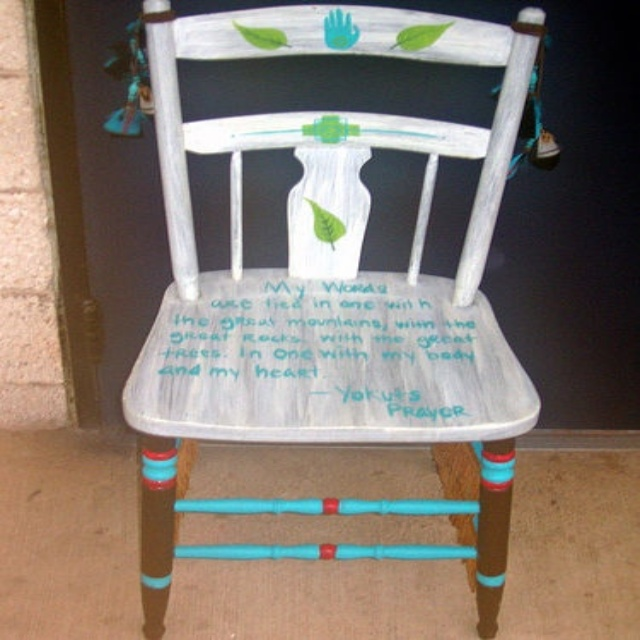obstacle: (123, 0, 543, 639)
